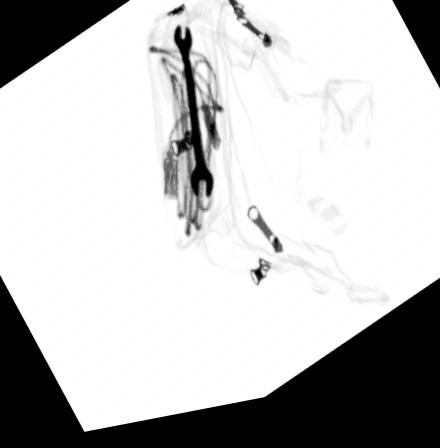Wrench: (172, 27, 215, 206)
